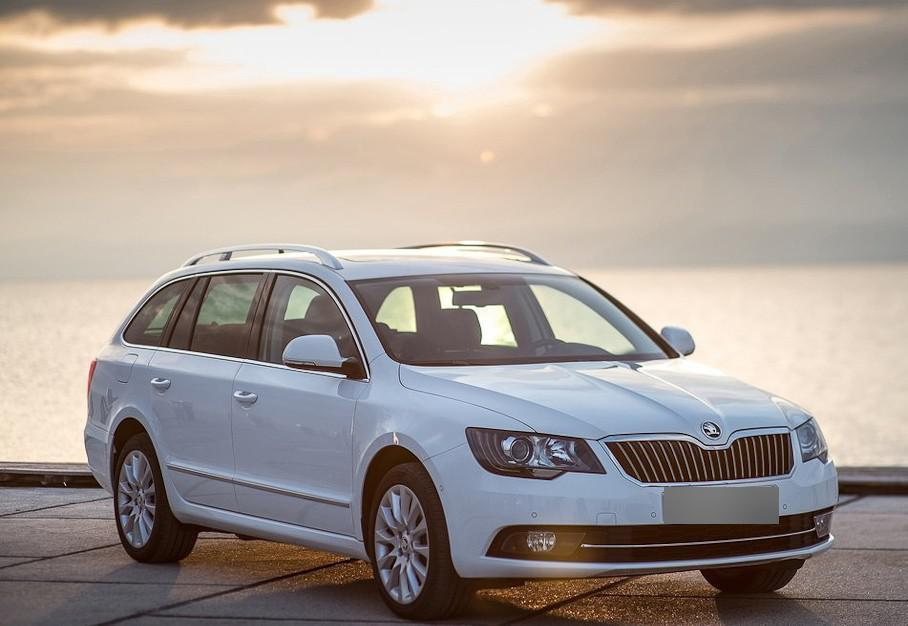Wagon: (83, 241, 838, 618)
